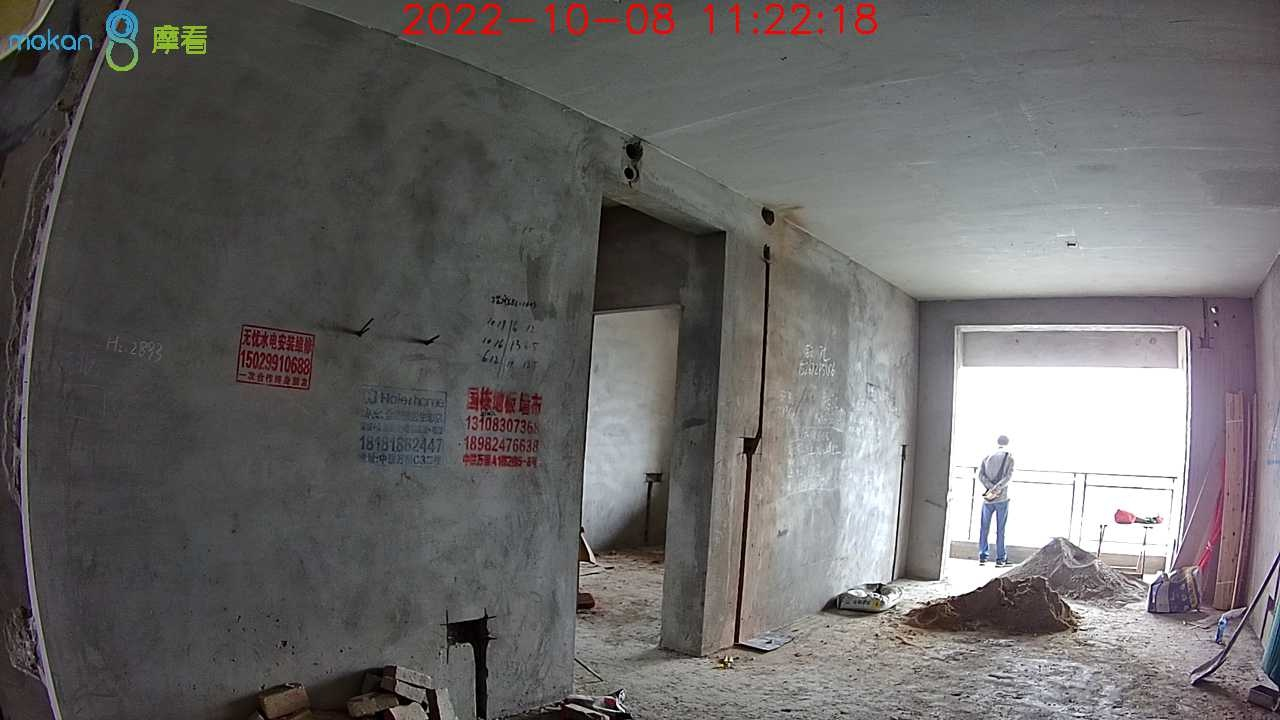people: (978, 430, 1008, 562)
window: (951, 327, 1188, 554)
